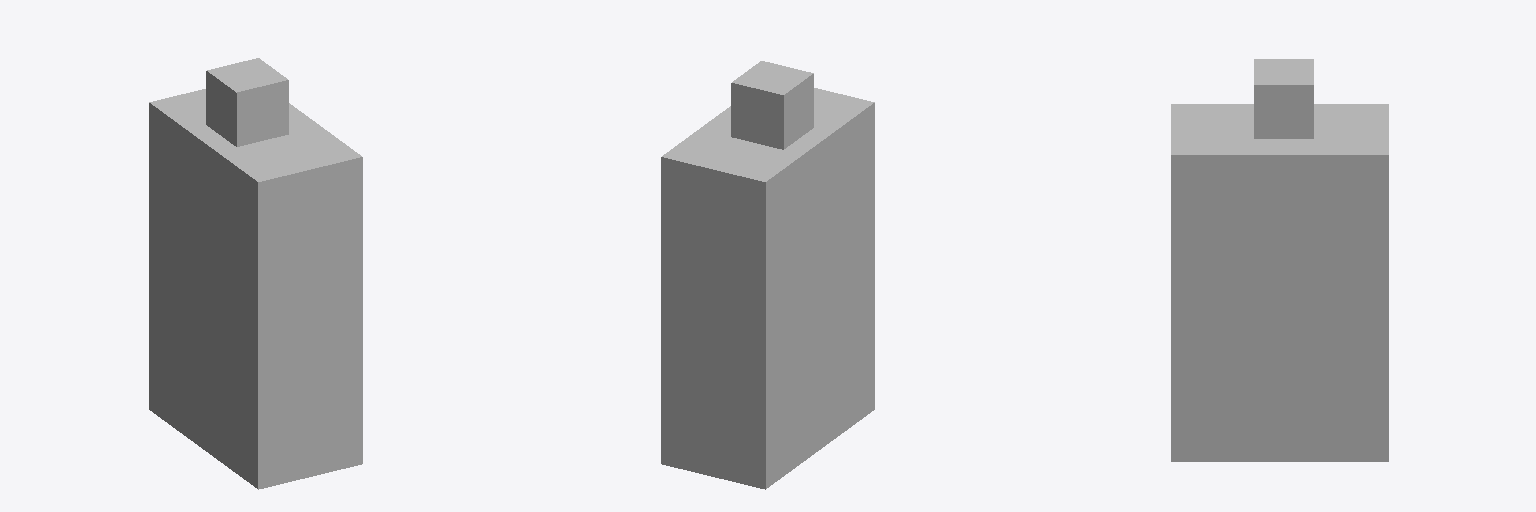
File: bottle 2.obj
3 renders of one model, left to right at view 1: azimuth 30°, elevation 25°; view 2: azimuth 150°, elevation 25°; view 3: azimuth 270°, elevation 25°, orthographic.
Bounding box in the file's own units: 16 × 53 × 29.